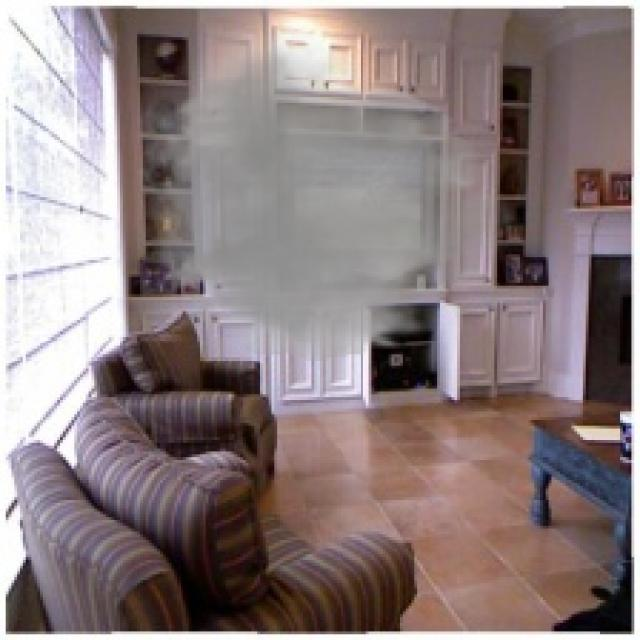smoke: (120, 20, 529, 369)
